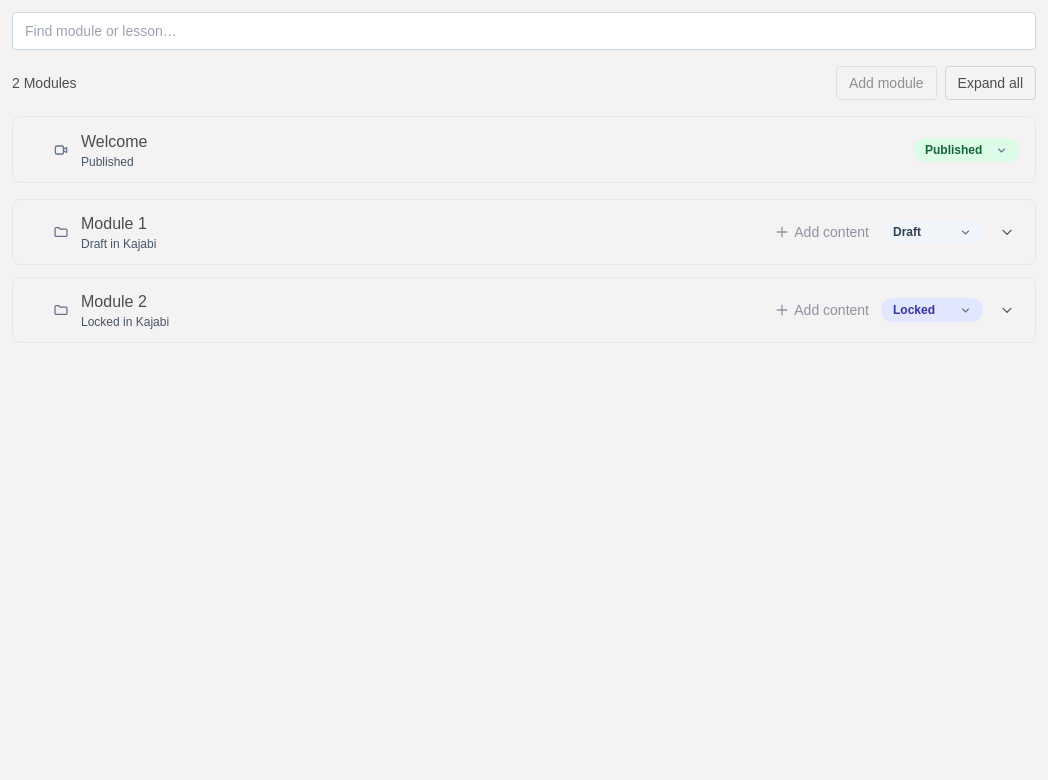
Test: BuilderOutline › expands and collapses everything, submodules included, then lets each section go its own way
Click the button "Expand all" at [990, 83], box x1=945 y1=66 x2=1036 y2=100
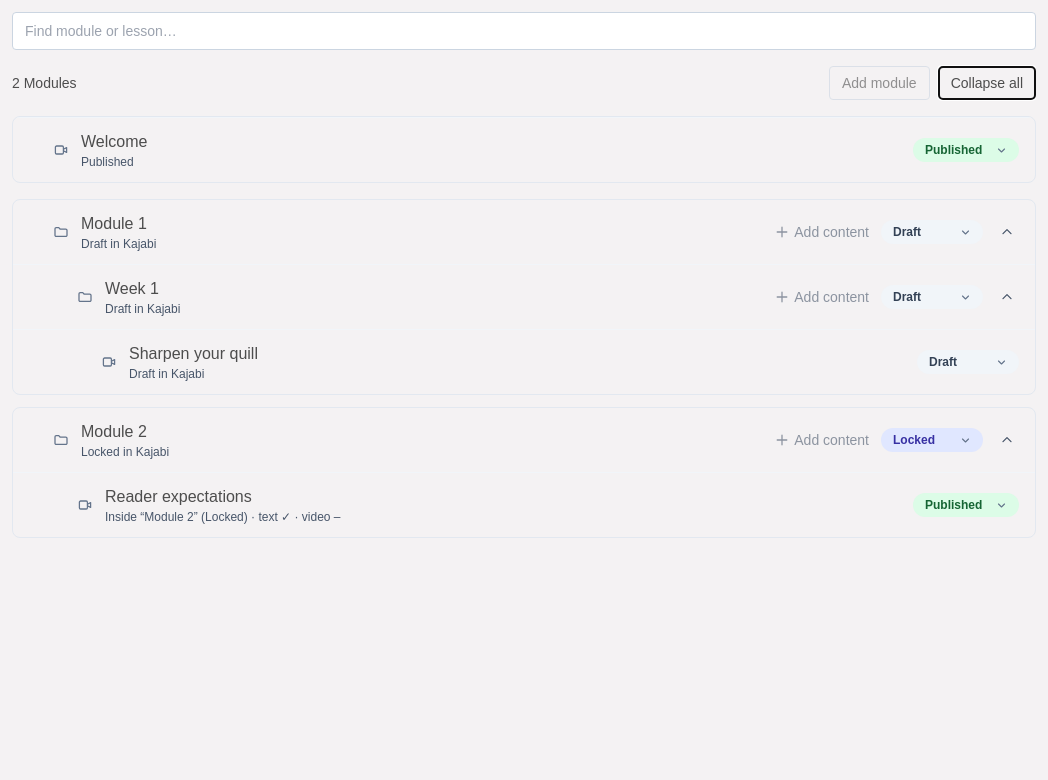
Expected: the text "Sharpen your quill" is shown, x1=129 y1=345 x2=258 y2=362
Expected: the link "Reader expectations" is shown, x1=105 y1=488 x2=252 y2=505
Click the button named "Collapse Module 2" at [1007, 440], box x1=995 y1=428 x2=1019 y2=452
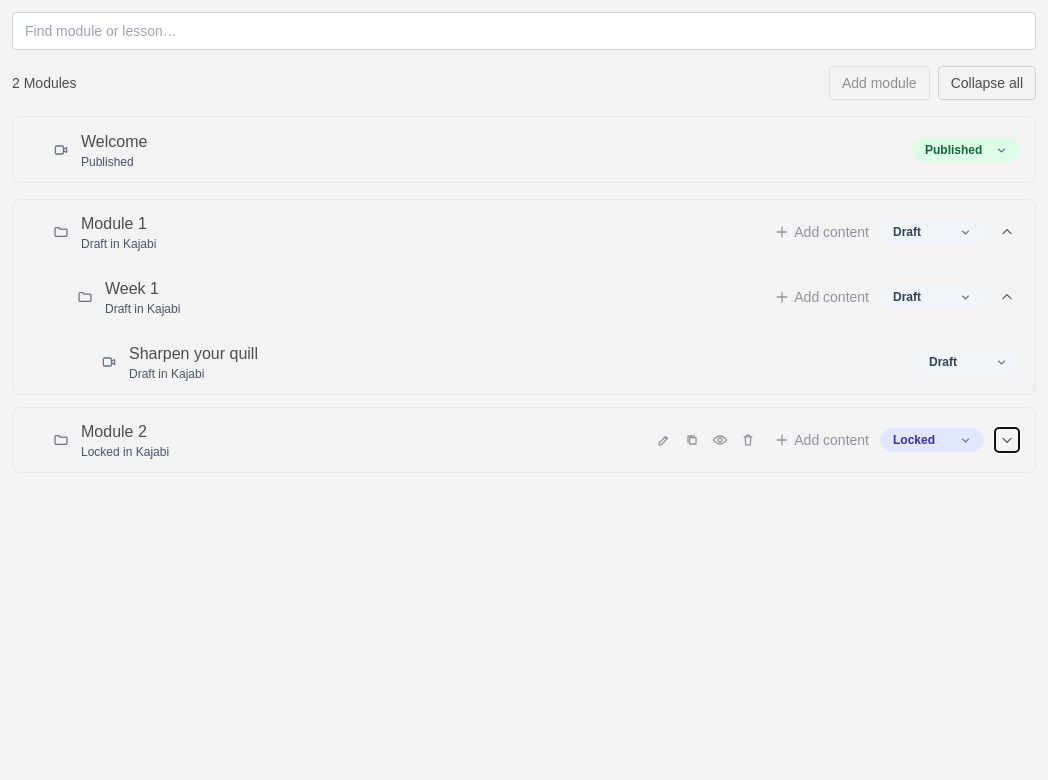
Expected: the text "Sharpen your quill" is shown, x1=129 y1=345 x2=258 y2=362
Expected: the link "Reader expectations" is gone
Click the button "Collapse all" at [987, 83], box x1=938 y1=66 x2=1036 y2=100
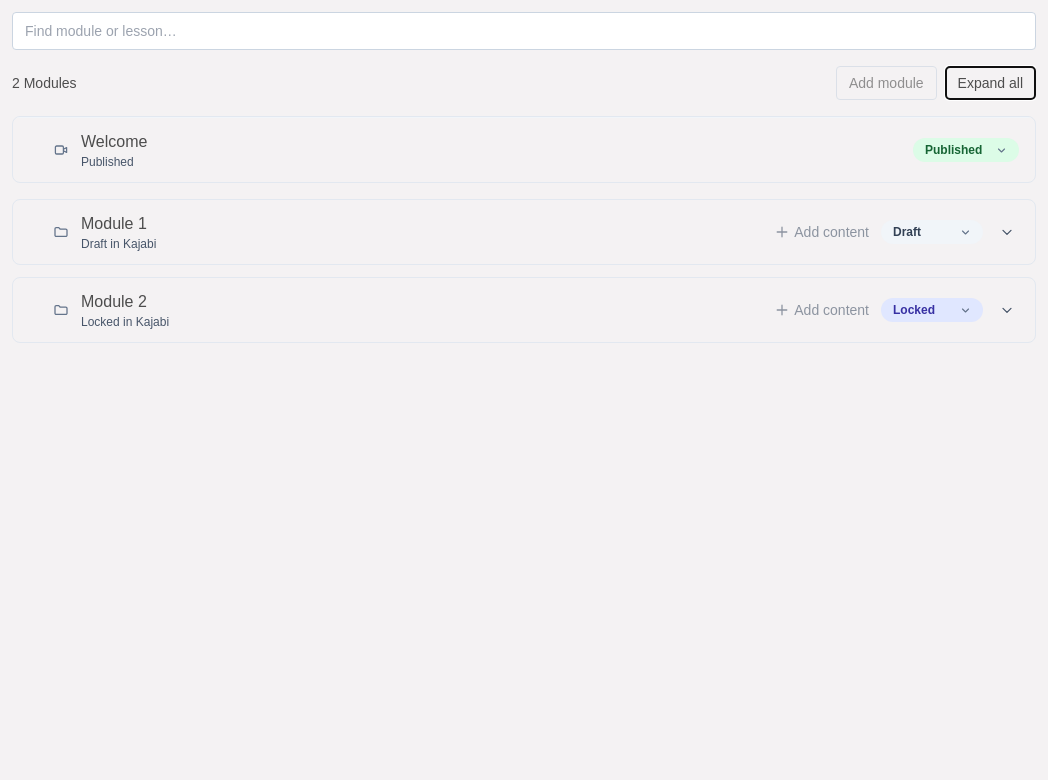
Expected: the text "Sharpen your quill" is gone
